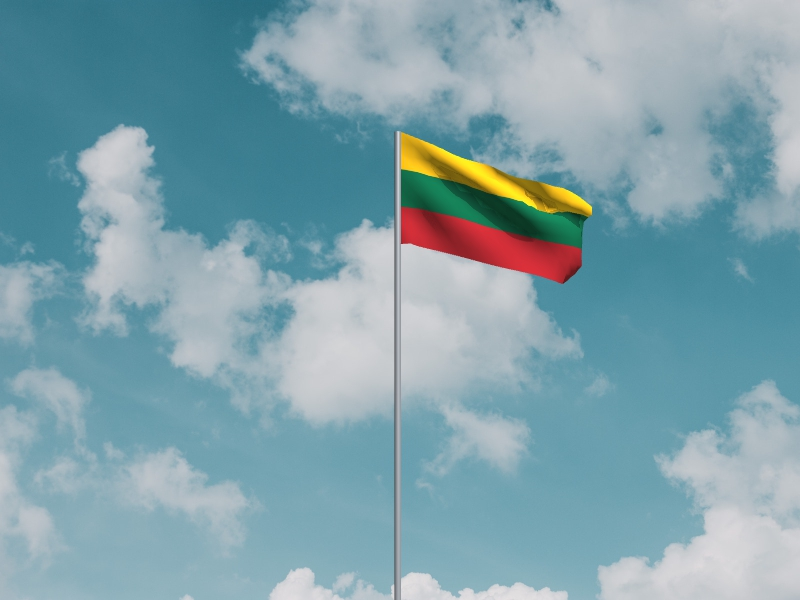lt: (401, 132, 594, 286)
